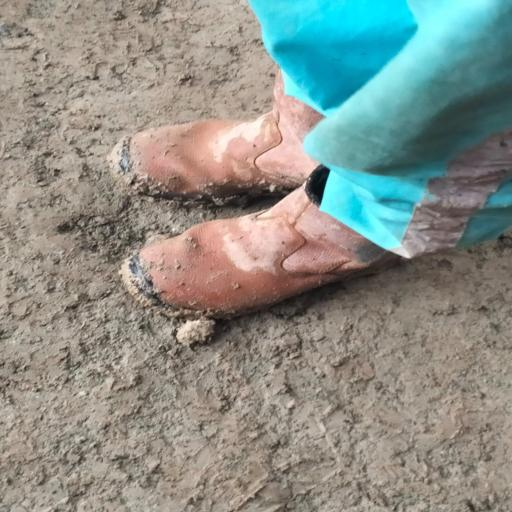safety_shoe: (120, 74, 346, 194), (133, 209, 388, 309)
